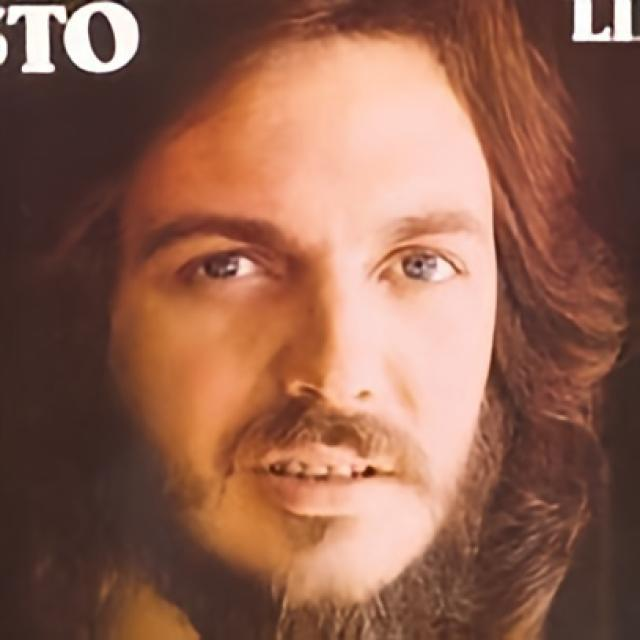disgust: (106, 26, 498, 612)
